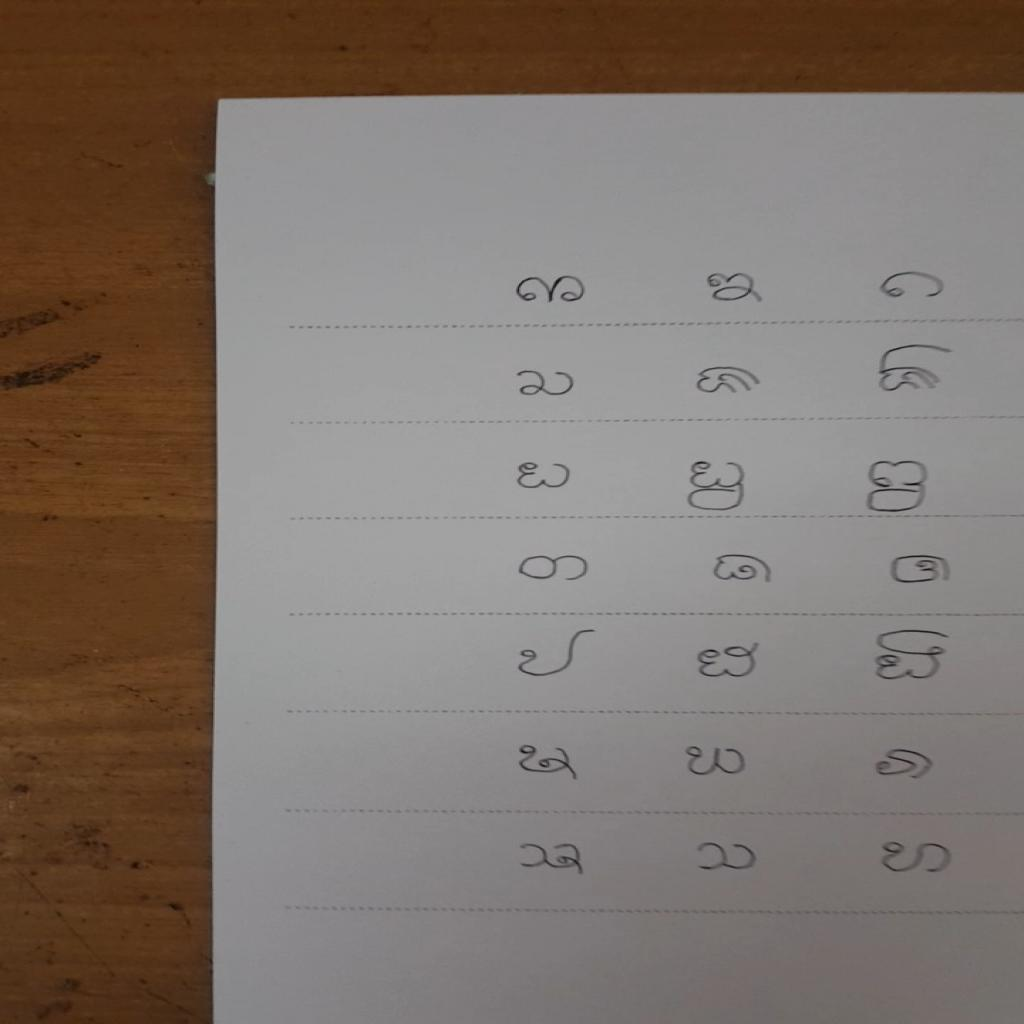LN001: (511, 272, 592, 308)
LN002: (703, 270, 769, 307)
LN007: (513, 367, 578, 401)
LN008: (695, 365, 763, 398)
LN013: (512, 459, 575, 495)
LN014: (684, 459, 750, 514)
LN019: (514, 553, 593, 585)
LN020: (709, 552, 777, 586)
LN025: (513, 626, 598, 681)
LN026: (693, 640, 762, 682)
LN031: (514, 739, 581, 784)
LN032: (680, 744, 751, 779)
LN037: (514, 837, 592, 881)
LN038: (691, 840, 761, 874)
